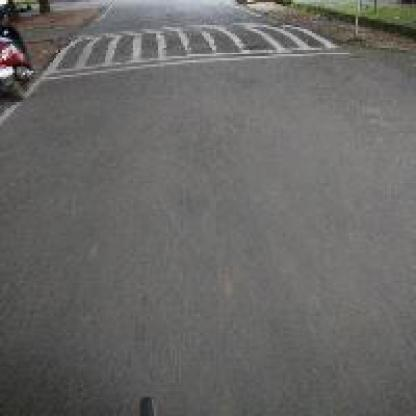Speed Bump: (38, 15, 354, 83)
